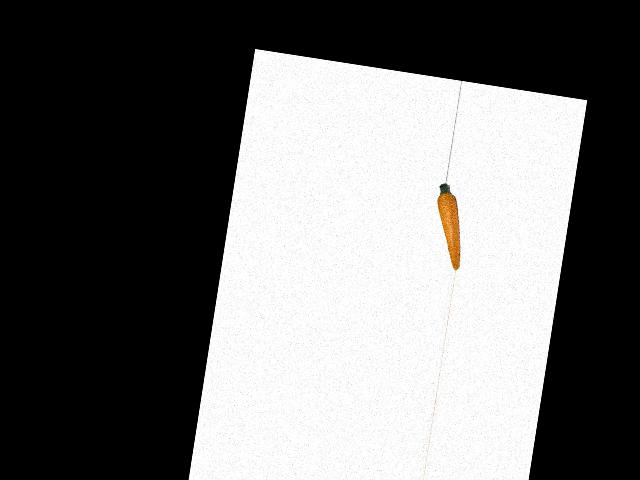carrot: (426, 181, 471, 270)
